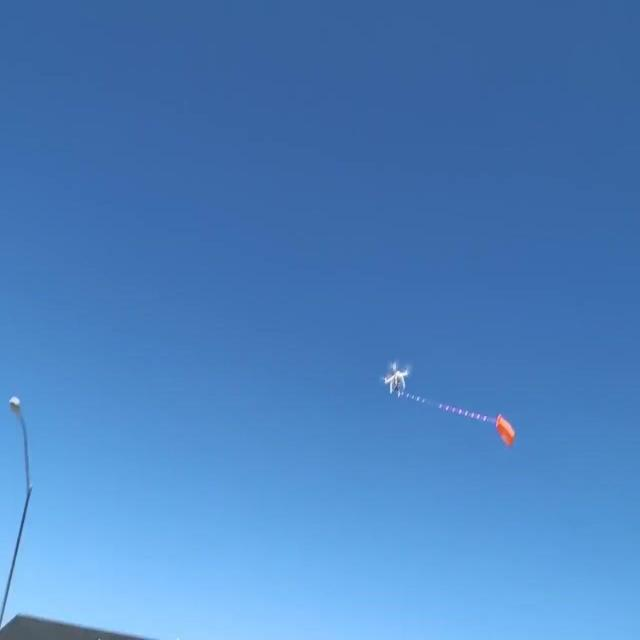drone: (382, 358, 410, 399)
